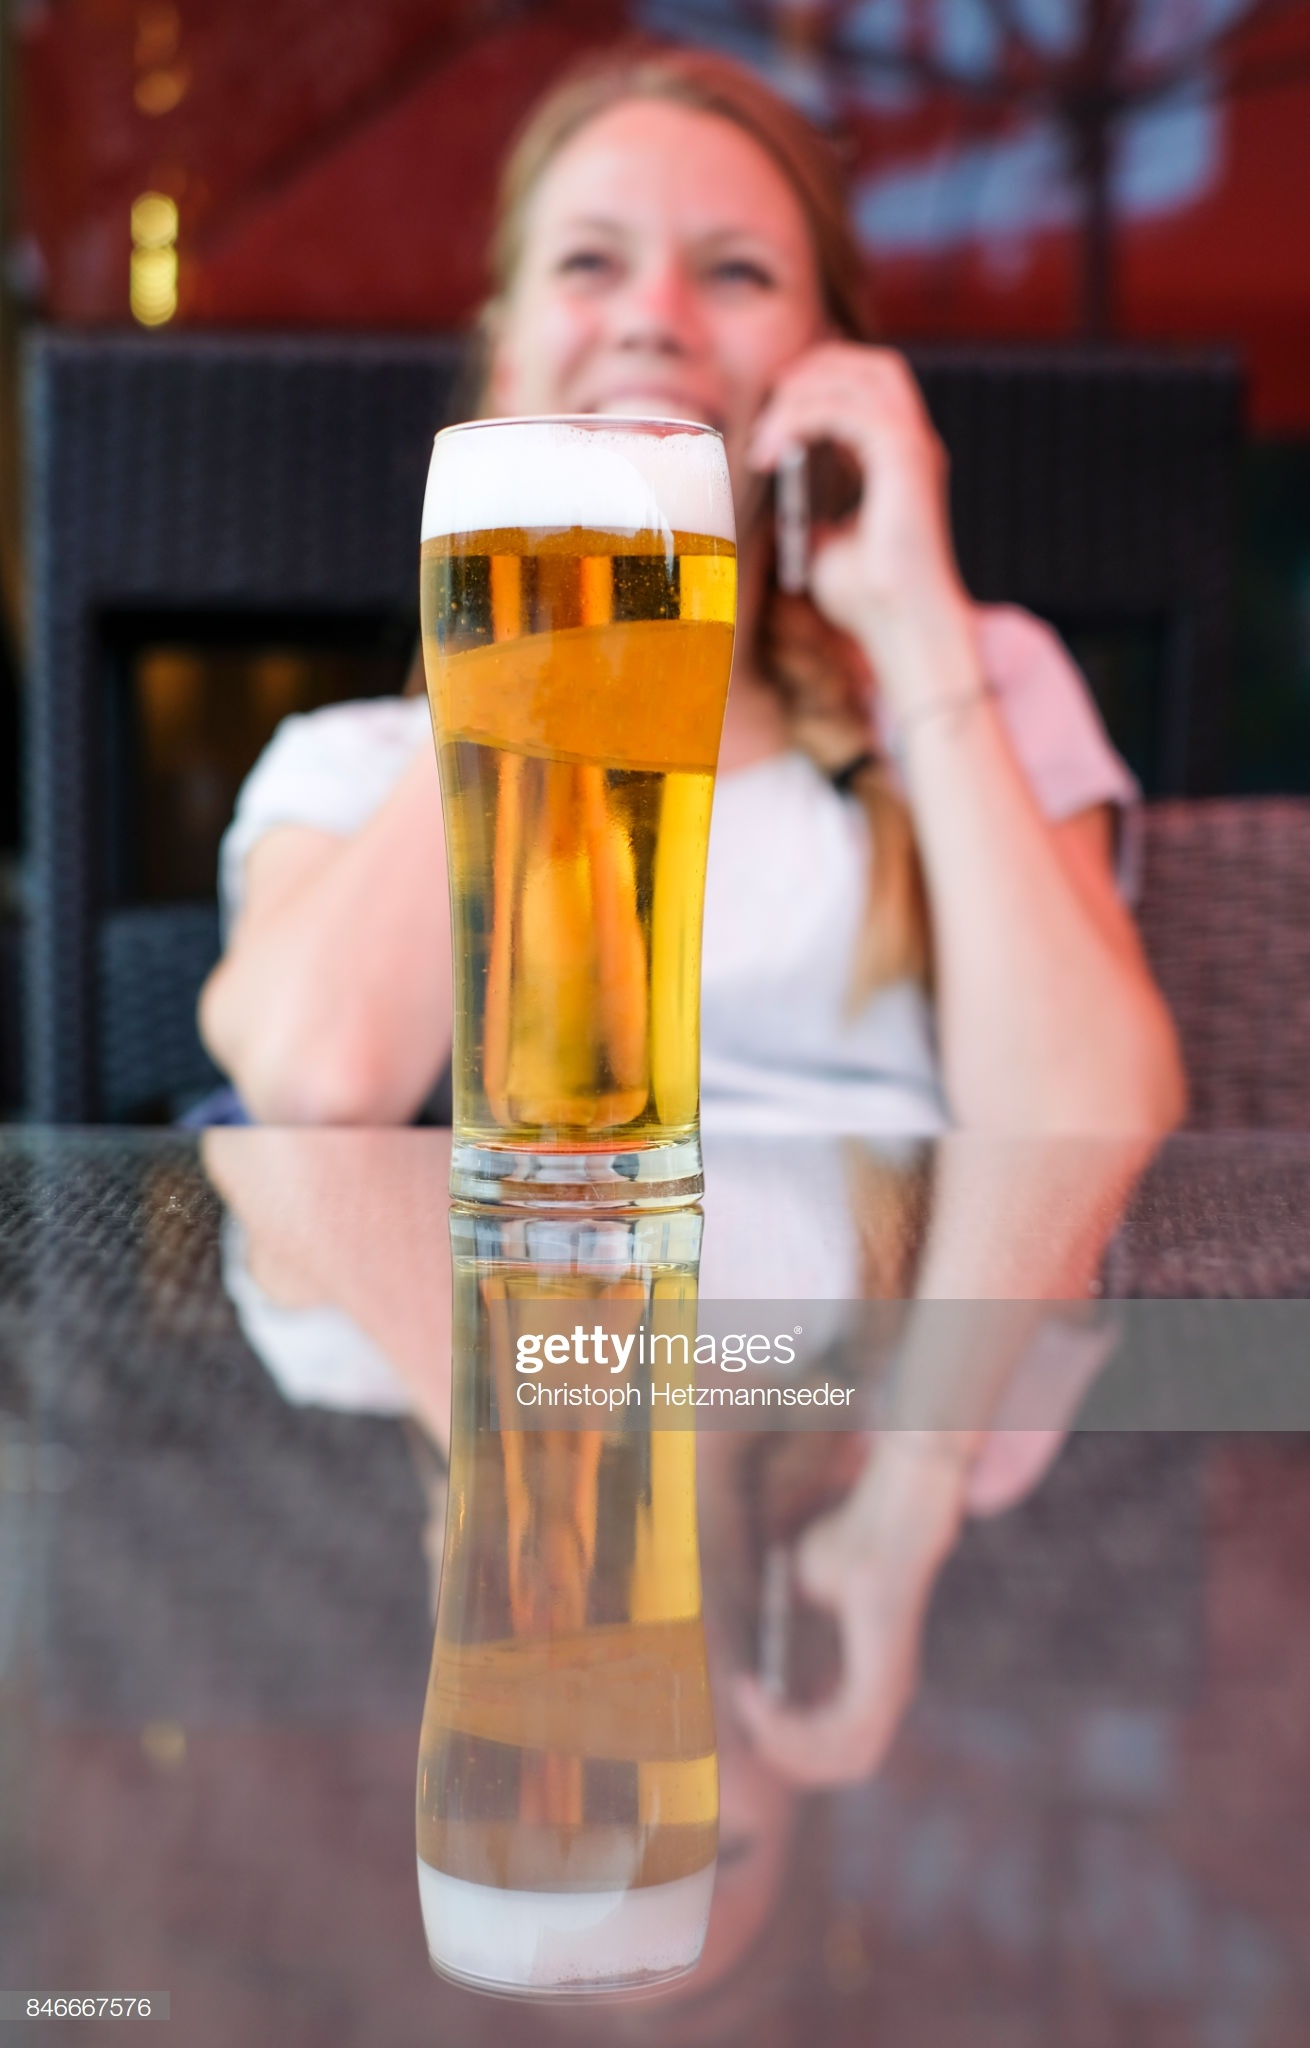glassBeer: (419, 405, 762, 1261)
